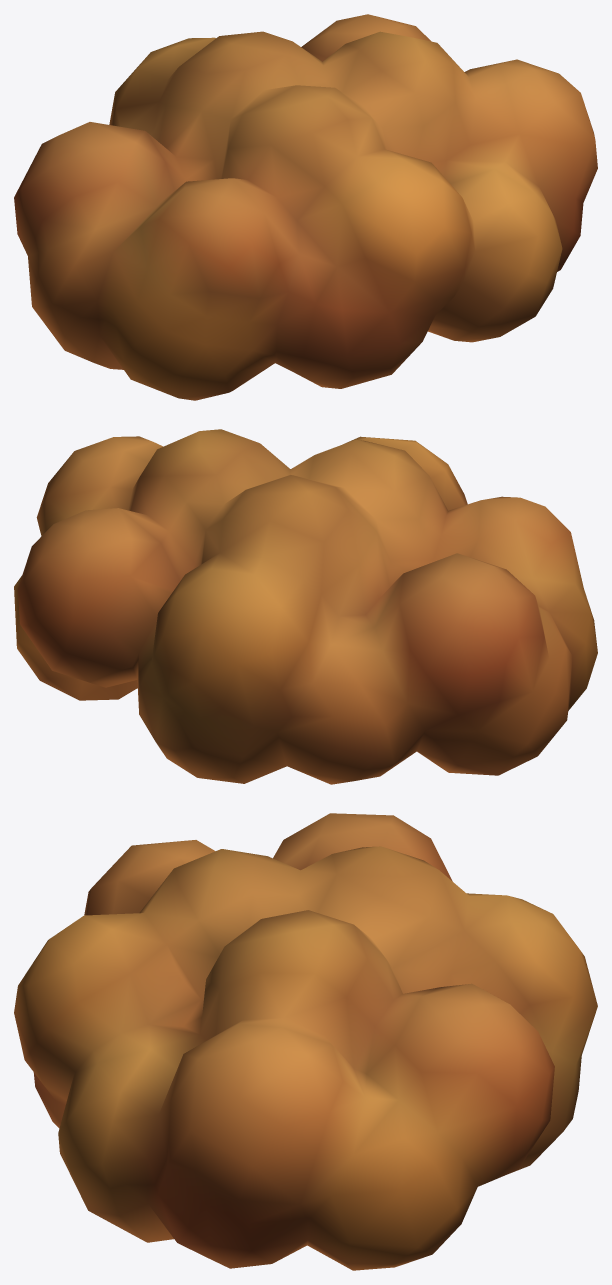
Rendered from bush-b-autumn.glb.
3 renders of one model, top to bottom at view 1: azimuth 30°, elevation 25°; view 2: azimuth 150°, elevation 25°; view 3: azimuth 270°, elevation 25°, orthographic. The views are drawn at different scales.
Parts seen in each view (by area): view 1: bush-b-autumn; view 2: bush-b-autumn; view 3: bush-b-autumn.
Boxes of the visible parts, x1,y1,x2,y2 form: bush-b-autumn: [14, 14, 597, 400]; bush-b-autumn: [14, 429, 597, 784]; bush-b-autumn: [14, 813, 597, 1270].
Bounding box in the file's own units: 1.34 × 0.6338 × 1.1.
